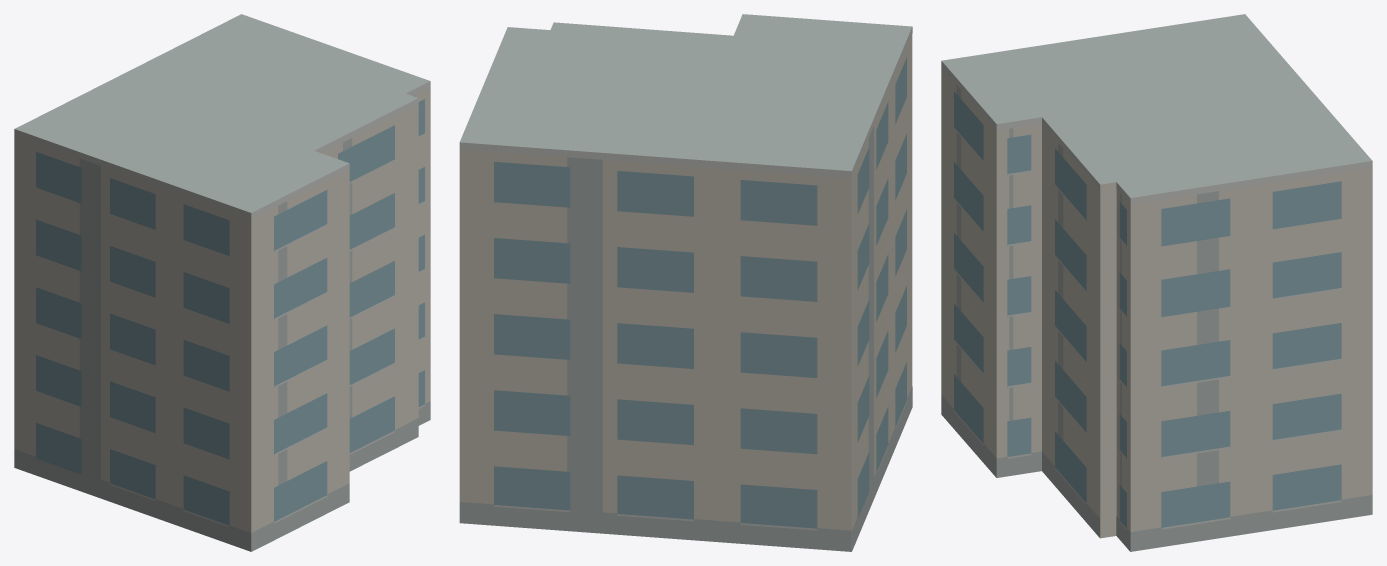
File: survey-upis-32809289.glb
3 views of the same model, side by side, from view 1: azimuth 30°, elevation 25°; view 2: azimuth 150°, elevation 25°; view 3: azimuth 270°, elevation 25° (orthographic). The views are drawn at different scales.
Parts seen in each view (by area): view 1: survey-upis-32809289.tmp; view 2: survey-upis-32809289.tmp; view 3: survey-upis-32809289.tmp.
Boxes of the visible parts, <box> form: survey-upis-32809289.tmp: <box>14,14,430,551</box>; survey-upis-32809289.tmp: <box>459,14,912,551</box>; survey-upis-32809289.tmp: <box>941,14,1372,551</box>.
Bounding box in the file's own units: 14.73 × 13.2 × 14.59.
